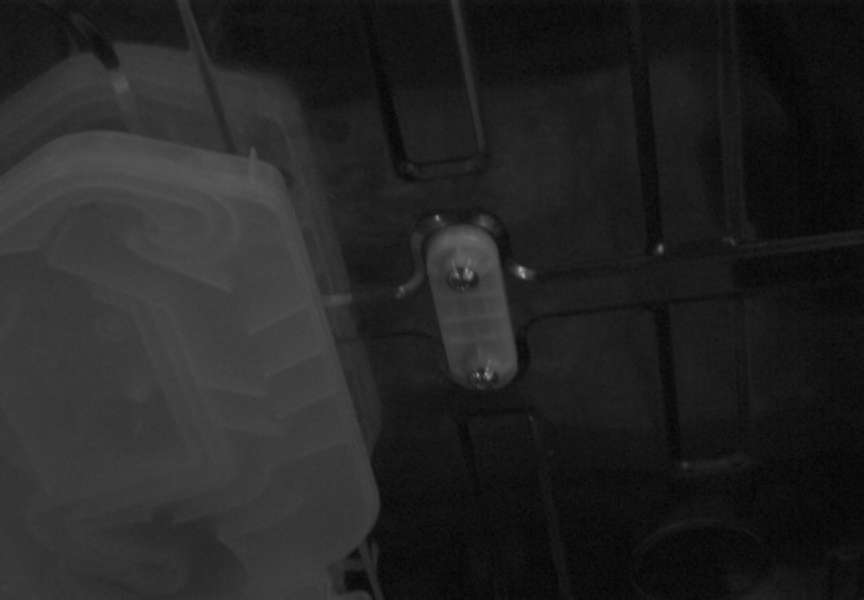screw: (447, 266, 479, 292), (468, 365, 498, 391)
